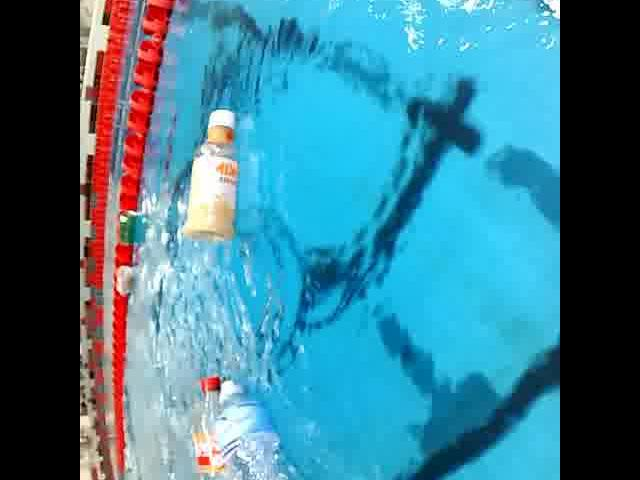Bottle: (208, 365, 362, 480), (182, 97, 252, 245), (186, 371, 248, 480), (111, 264, 138, 302)
Can: (115, 206, 145, 248)
